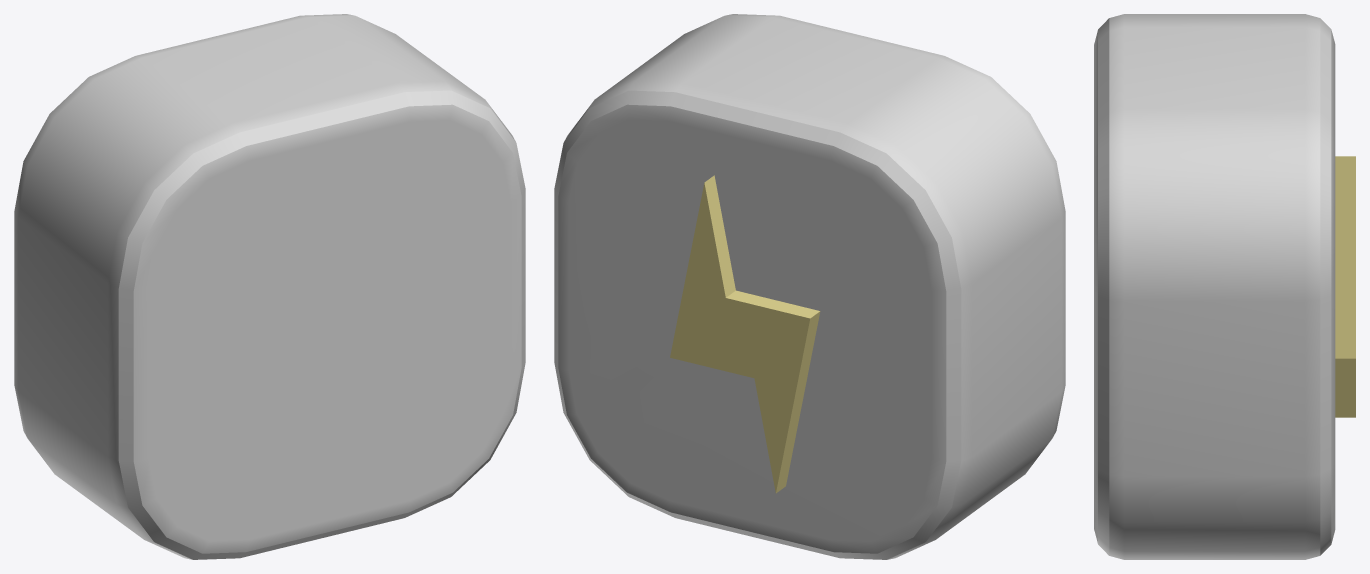
The model's file is AED.fbx.
The picture shows the model from 3 angles, left to right: view 1: azimuth 30°, elevation 25°; view 2: azimuth 150°, elevation 25°; view 3: azimuth 270°, elevation 25°; orthographic projection.
Visible parts, largest first — view 1: AED; view 2: AED; view 3: AED.
Boxes of the visible parts, x1,y1,x2,y2 form: AED: (14, 14, 525, 559); AED: (554, 14, 1065, 559); AED: (1094, 14, 1355, 559).
Size of the model in its own units: 4 by 4 by 2.17.
